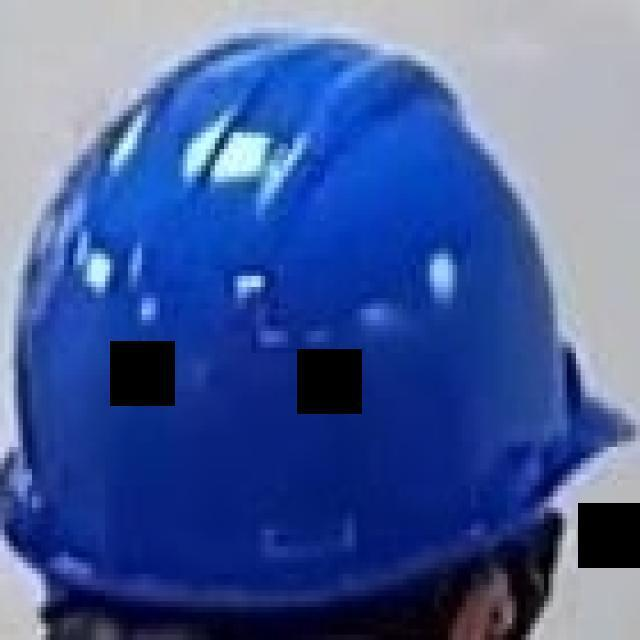helmet: (4, 25, 635, 618)
